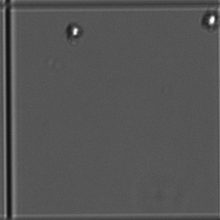Living Cell: (200, 8, 218, 30), (64, 21, 82, 40)
